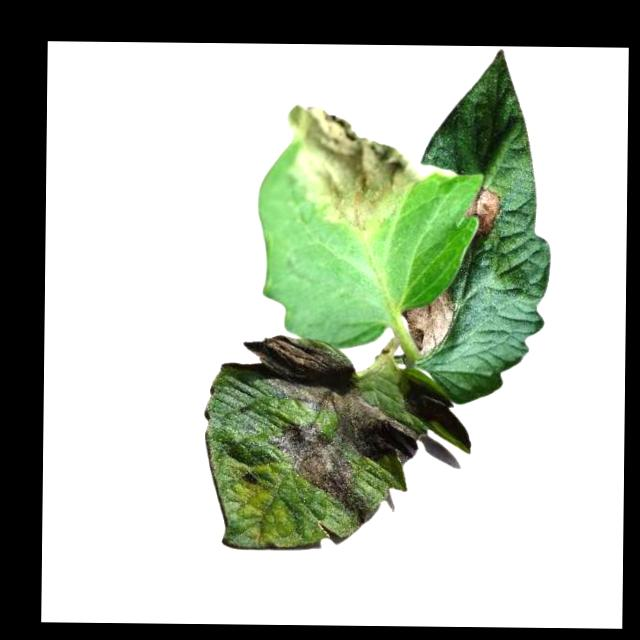Late_blight: (205, 339, 418, 525), (286, 100, 431, 231), (404, 288, 457, 359), (464, 183, 504, 234)
